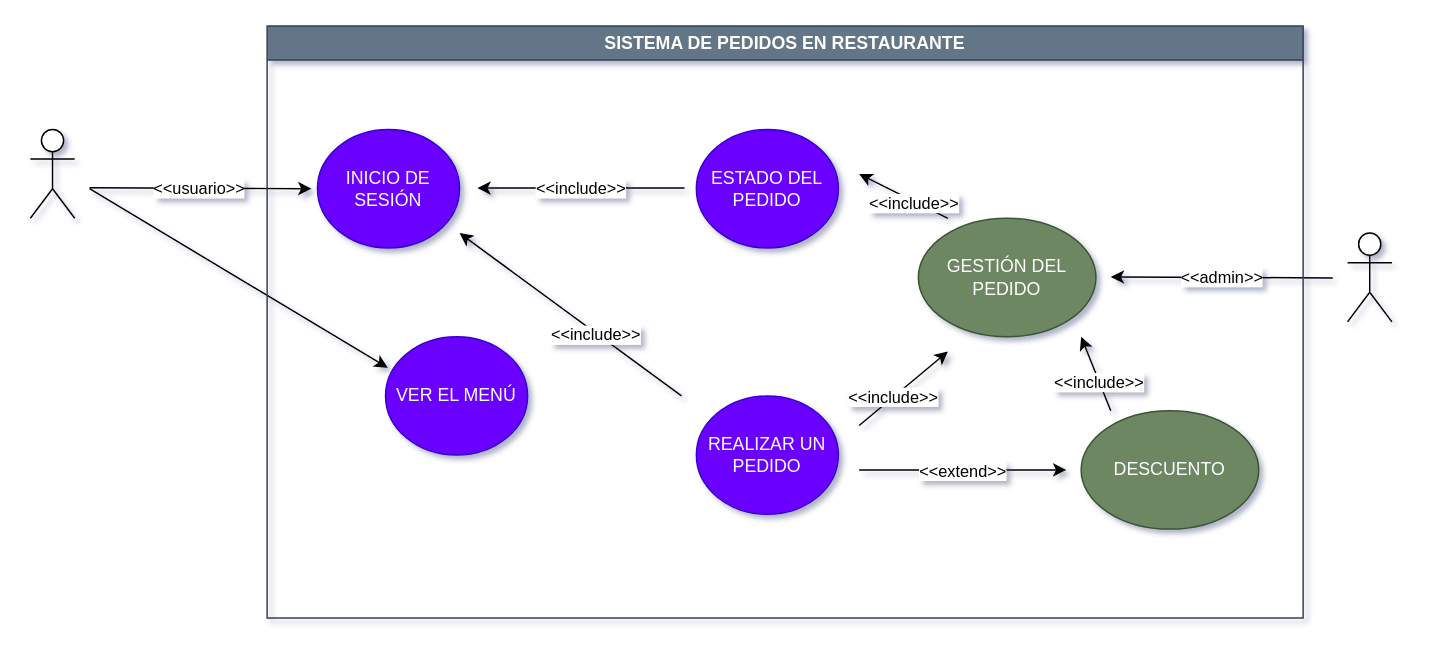
Some shapes in this 1439 by 653 pixel diagram are drawn without their labels. The centre of each missing label's shape, as x and y in pixels:
Cliente: the point at 52,173
Personal: the point at 1369,277
